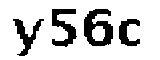5: (49, 7, 78, 48)
6: (85, 7, 115, 50)
c: (119, 18, 143, 49)
y: (8, 15, 44, 58)
